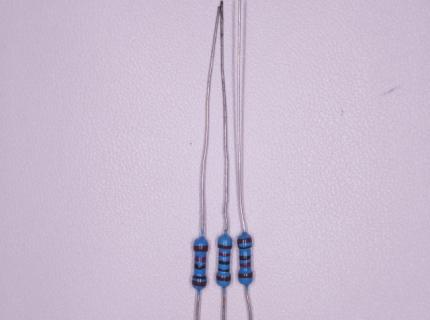Black band: (238, 244, 252, 251), (194, 263, 206, 270), (192, 274, 206, 280), (239, 255, 252, 260), (218, 260, 230, 265), (217, 268, 229, 273)
Brown band: (193, 245, 208, 252), (237, 237, 252, 244), (192, 280, 207, 287), (216, 275, 232, 281), (238, 272, 253, 278), (218, 244, 232, 249)
Red band: (194, 255, 206, 262), (240, 263, 252, 268), (218, 253, 230, 257)
